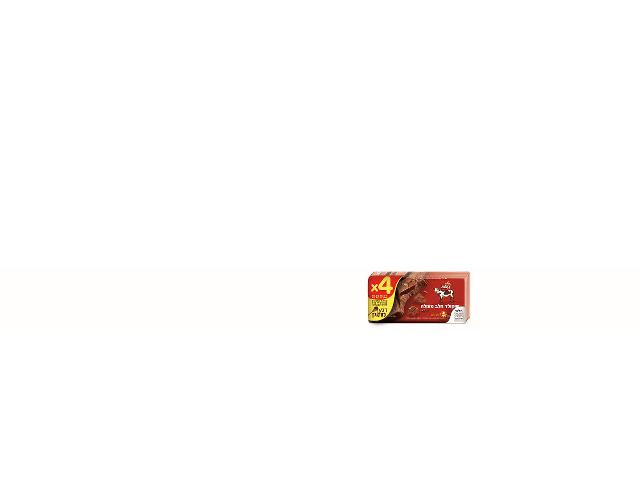chocolate: (366, 272, 468, 326)
